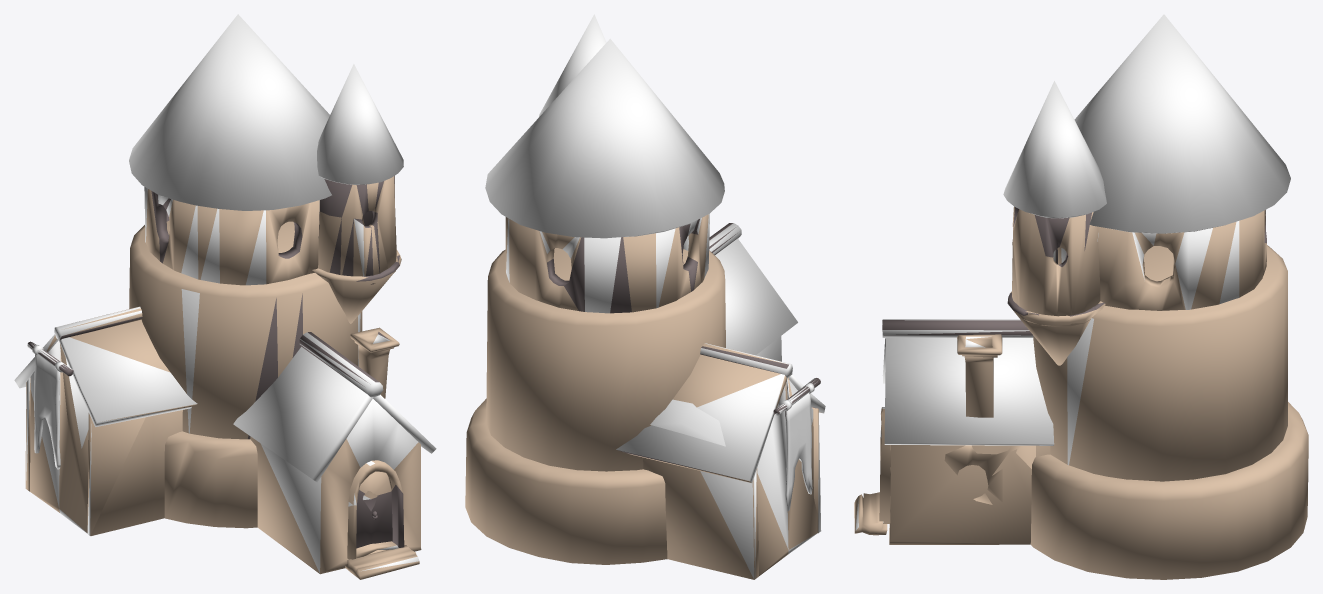
Rendered from castle.glb.
3 renders of one model, left to right at view 1: azimuth 30°, elevation 25°; view 2: azimuth 150°, elevation 25°; view 3: azimuth 270°, elevation 25°, orthographic. The views are drawn at different scales.
Visible parts, largest first — view 1: castle; view 2: castle; view 3: castle.
Part boxes in pixels (<box>): castle: <box>14,14,436,579</box>; castle: <box>465,14,825,579</box>; castle: <box>854,14,1308,579</box>.
Size of the model in its own units: 2.52 by 3.52 by 2.9.
